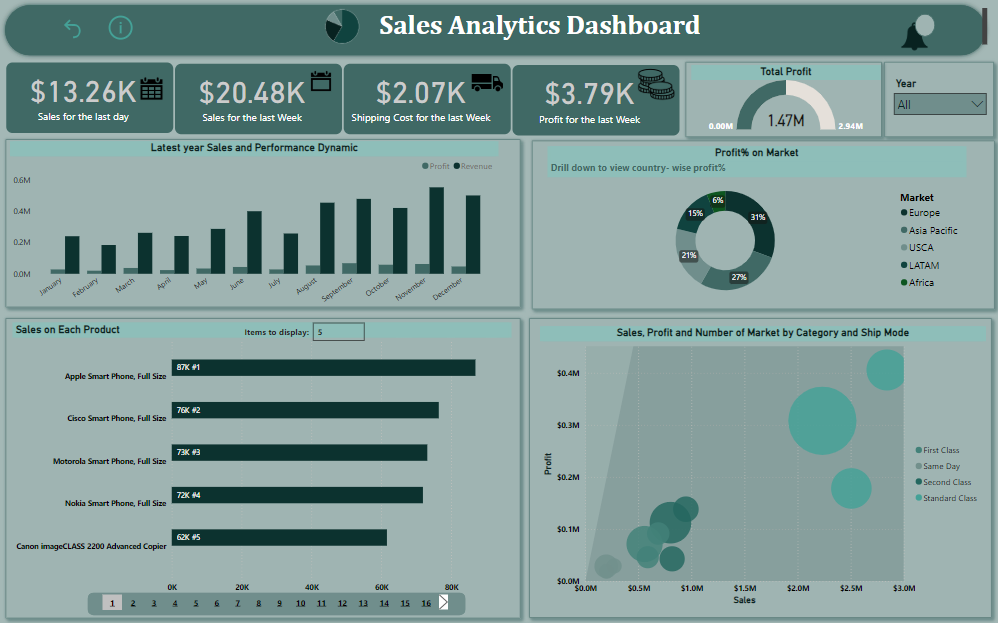

What the dashboard file says about the page in this screenshot:
{"tool":"powerbi","page":{"name":"Main_Page","canvas":[1600,1000],"ordinal":0},"visuals":[{"type":"textbox","box":[38.8,7.2,1546.7,73.3],"z":0,"group":"g6"},{"type":"shape","box":[1406.7,90,193.3,138.3],"z":0},{"type":"group","id":"g1","title":"Group 2","box":[9.8,100.9,268.3,113.3],"z":0,"group":"g7"},{"type":"group","id":"g2","title":"Group 2","box":[280.2,101.7,267.5,112.5],"z":0,"group":"g8"},{"type":"group","id":"g3","title":"Group 2","box":[550.5,102.1,267.5,112.5],"z":0,"group":"g9"},{"type":"group","id":"g4","title":"Group 3","box":[820.8,102.6,267.5,112.5],"z":0,"group":"g10"},{"type":"group","id":"g5","title":"Group 2","box":[820.8,102.6,267.5,112.5],"z":0,"group":"g4"},{"type":"shape","box":[0,500,841.7,498.3],"z":0,"group":"g14"},{"type":"shape","box":[138.7,948.9,605,36.7],"z":0,"group":"g13"},{"type":"shape","box":[0,213.3,841.7,286.7],"z":500,"group":"g11"},{"type":"shape","box":[1088.3,90,331.7,138.3],"z":1000},{"type":"image","box":[1010.8,95,77.5,77.5],"z":1000,"group":"g10"},{"type":"image","box":[207,113.8,68.3,59],"z":1000,"group":"g7"},{"type":"clusteredColumnChart","title":"Latest year Sales and Performance Dynamic","fields":{"Category":["Orders.Order Date.Variation.Date Hierarchy.Year","Orders.Order Date.Variation.Date Hierarchy.Month"],"Y":["Sum(Orders.Profit)","Sum(Orders.Sales)"]},"box":[15,225,781.7,280],"z":1000,"group":"g11"},{"type":"image","box":[1380.6,23.9,167,68.6],"z":2000,"group":"g6"},{"type":"shape","box":[837.5,500,757.5,497.5],"z":2000},{"type":"shape","box":[0,0,1585,96.7],"z":3000},{"type":"shape","box":[841.3,215.9,758.3,287.8],"z":4000},{"type":"group","id":"g6","title":"Group 1","box":[38.8,7.2,1546.7,85.3],"z":5000},{"type":"card","fields":{"Values":["Orders.Sales for the last day"]},"box":[9.8,100.9,267.5,112.5],"z":5000,"group":"g1"},{"type":"card","fields":{"Values":["Orders.Sales for the last 7 days"]},"box":[280.2,101.7,267.5,112.5],"z":5000,"group":"g2"},{"type":"card","fields":{"Values":["Orders.Shipping Cost for the last 7 days"]},"box":[550.5,102.1,267.5,112.5],"z":5000,"group":"g3"},{"type":"card","fields":{"Values":["Orders.Profit for the last Week"]},"box":[820.8,102.6,267.5,112.5],"z":5000,"group":"g5"},{"type":"card","fields":{"Values":["Sum(Sales Dashboard.Notification)"]},"box":[1431.7,38.7,64.6,44.3],"z":6000},{"type":"shape","box":[1464.5,22.9,32,36.6],"z":7000},{"type":"image","box":[743.2,100,75.6,64.6],"z":7001,"group":"g9"},{"type":"image","box":[481.3,101.7,62.7,55.4],"z":7001,"group":"g8"},{"type":"group","id":"g7","title":"Group 3","box":[9.8,100.9,268.3,113.3],"z":8000},{"type":"group","id":"g8","title":"Group 3","box":[280.2,101.7,268.3,113.3],"z":9000},{"type":"slicer","fields":{"Values":["# Items.# Items"]},"box":[487.3,506.7,188.3,46.7],"z":9000,"group":"g12"},{"type":"group","id":"g9","title":"Group 3","box":[550.5,100,268.3,113.3],"z":10000},{"type":"slicer","fields":{"Values":["# Pages.# Pages"]},"box":[143.7,945.6,586.7,50],"z":10000,"group":"g13"},{"type":"group","id":"g10","title":"Group 4","box":[820.8,95,267.5,120.2],"z":11000},{"type":"clusteredBarChart","title":"Sales on Each Product","fields":{"Category":["Orders.Product Name"],"Y":["Orders.Total Sales","# Items.Dummy"]},"box":[19.4,517.3,798.3,441.7],"z":11000,"group":"g13"},{"type":"textbox","box":[375,517.3,123.3,41.7],"z":11001,"group":"g12"},{"type":"group","id":"g11","title":"Group 7","box":[0,213.3,841.7,291.7],"z":12000},{"type":"group","id":"g12","title":"Group 5","box":[375,506.7,300.7,52.2],"z":12000,"group":"g13"},{"type":"group","id":"g13","title":"Group 6","box":[19.4,506.7,798.3,488.9],"z":12001,"group":"g14"},{"type":"group","id":"g14","title":"Group 8","box":[0,500,841.7,498.3],"z":13000},{"type":"image","box":[466,8,160,68],"z":14000},{"type":"donutChart","title":"Profit% on Market","fields":{"Y":["Orders.Total Profit"],"Category":["Orders.Market","Orders.Country"]},"box":[876.7,233.3,670,256.7],"z":15000},{"type":"gauge","fields":{"Y":["Orders.Total Profit"]},"box":[1105,103.3,303.3,113.3],"z":16000},{"type":"scatterChart","title":"Sales, Profit and Number of Market by Category and Ship Mode","fields":{"Series":["Orders.Ship Mode"],"Y":["Sum(Orders.Profit)"],"X":["Sum(Orders.Sales)"],"Size":["CountNonNull(Orders.Market)"],"Category":["Orders.Category"]},"box":[863.3,521.7,713.3,451.7],"z":17000},{"type":"actionButton","box":[168.3,8.3,50,71.7],"z":18000},{"type":"slicer","fields":{"Values":["Orders.Order Date.Variation.Date Hierarchy.Year"]},"box":[1420,118.3,168.3,83.3],"z":19000},{"type":"actionButton","box":[95,25,50,40],"z":20000}]}

Visuals, with their boxes in screenshot pixels (x1, y1, x2, y2), scaled from the page's 1600x1000 canvas onto the 998x623 screenshot:
textbox: 24 4 989 50
shape: 877 56 997 142
"Group 2" group: 6 63 173 133
"Group 2" group: 175 63 342 133
"Group 2" group: 343 64 510 134
"Group 3" group: 512 64 679 134
"Group 2" group: 512 64 679 134
shape: 0 312 525 622
shape: 87 591 464 614
shape: 0 133 525 312
shape: 679 56 886 142
image: 630 59 679 107
image: 129 71 172 108
"Latest year Sales and Performance Dynamic" clusteredColumnChart: 9 140 497 315
image: 861 15 965 58
shape: 522 312 995 621
shape: 0 0 989 60
shape: 525 135 997 314
"Group 1" group: 24 4 989 58
card - Orders.Sales for the last day: 6 63 173 133
card - Orders.Sales for the last 7 days: 175 63 342 133
card - Orders.Shipping Cost for the last 7 days: 343 64 510 134
card - Orders.Profit for the last Week: 512 64 679 134
card - Sum(Sales Dashboard.Notification): 893 24 933 52
shape: 913 14 933 37
image: 464 62 511 103
image: 300 63 339 98
"Group 3" group: 6 63 173 133
"Group 3" group: 175 63 342 134
slicer - # Items.# Items: 304 316 421 345
"Group 3" group: 343 62 511 133
slicer - # Pages.# Pages: 90 589 456 620
"Group 4" group: 512 59 679 134
"Sales on Each Product" clusteredBarChart: 12 322 510 597
textbox: 234 322 311 348
"Group 7" group: 0 133 525 315
"Group 5" group: 234 316 421 348
"Group 6" group: 12 316 510 620
"Group 8" group: 0 312 525 622
image: 291 5 390 47
"Profit% on Market" donutChart: 547 145 965 305
gauge - Orders.Total Profit: 689 64 878 135
"Sales, Profit and Number of Market by Category and Ship Mode" scatterChart: 538 325 983 606
actionButton: 105 5 136 50
slicer - Orders.Order Date.Variation.Date Hierarchy.Year: 886 74 991 126
actionButton: 59 16 90 40
